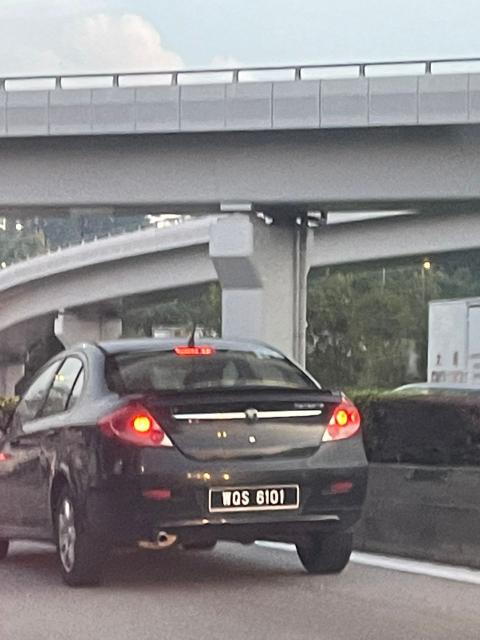License_Plate: (215, 489, 292, 509)
car: (1, 342, 361, 573)
